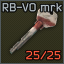RB-VO marked key: (0, 0, 64, 64)
